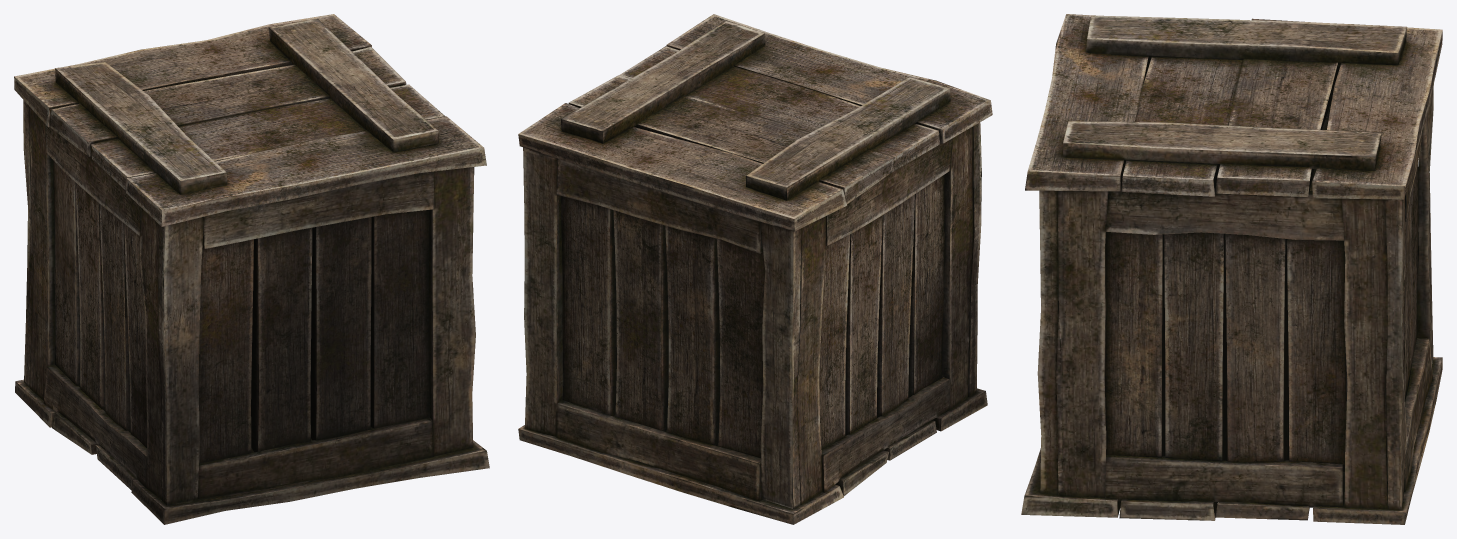
3 renders of one model, left to right at view 1: azimuth 30°, elevation 25°; view 2: azimuth 150°, elevation 25°; view 3: azimuth 270°, elevation 25°, orthographic. The views are drawn at different scales.
Visible parts, largest first — view 1: prim0; view 2: prim0; view 3: prim0.
Part boxes in pixels (x1=…): prim0: x1=14, y1=14, x2=489, y2=524; prim0: x1=518, y1=14, x2=992, y2=524; prim0: x1=1021, y1=14, x2=1442, y2=524.
Bounding box in the file's own units: 86.35 × 83.08 × 88.71.
